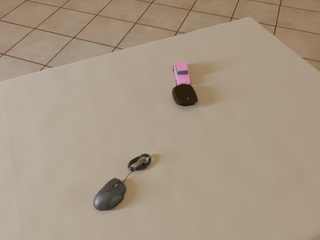mouse: (94, 178, 126, 211), (172, 84, 198, 106)
toy_car: (173, 62, 191, 86)
